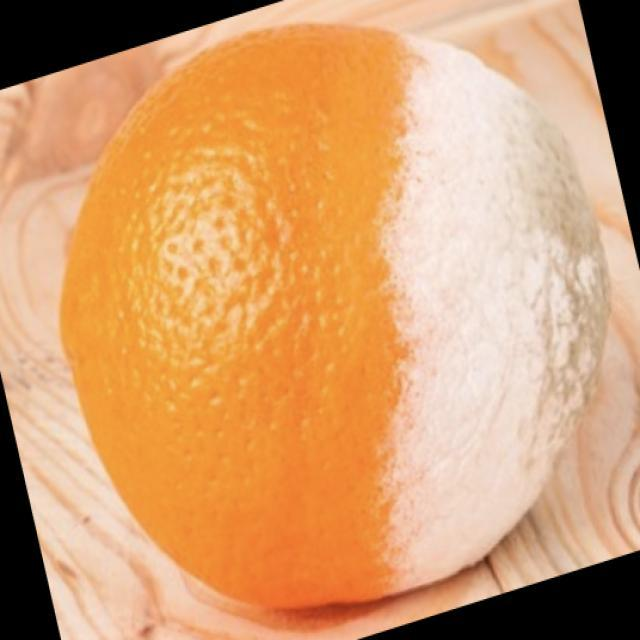sangat-busuk: (61, 25, 607, 606), (376, 33, 607, 594)
